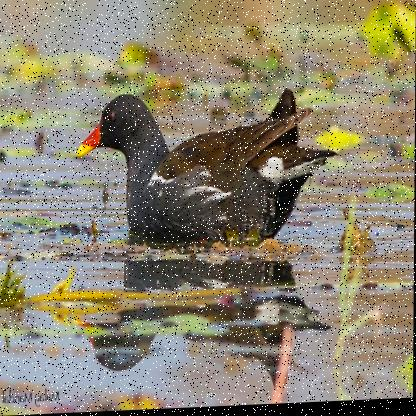Burung: (76, 89, 341, 251)
